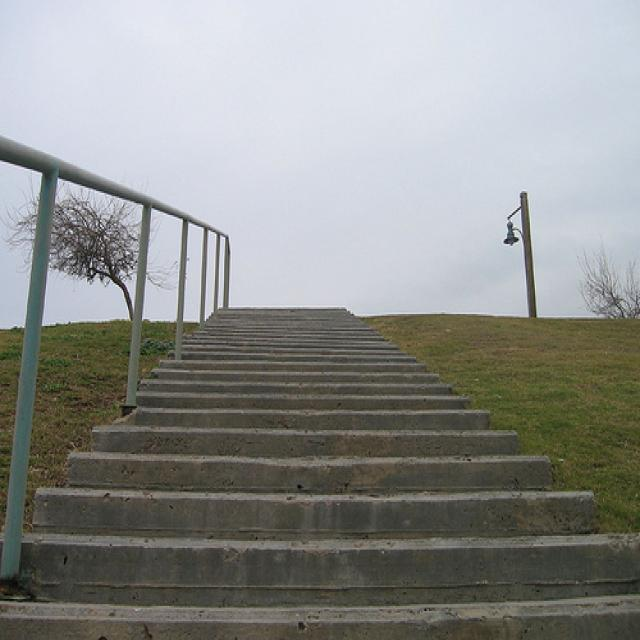upstair: (1, 304, 640, 635)
